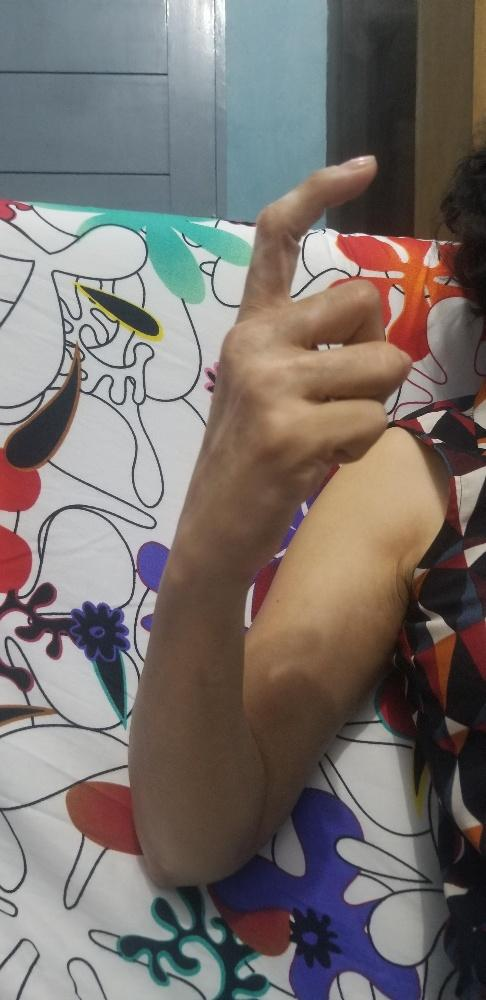x: (163, 151, 413, 577)
